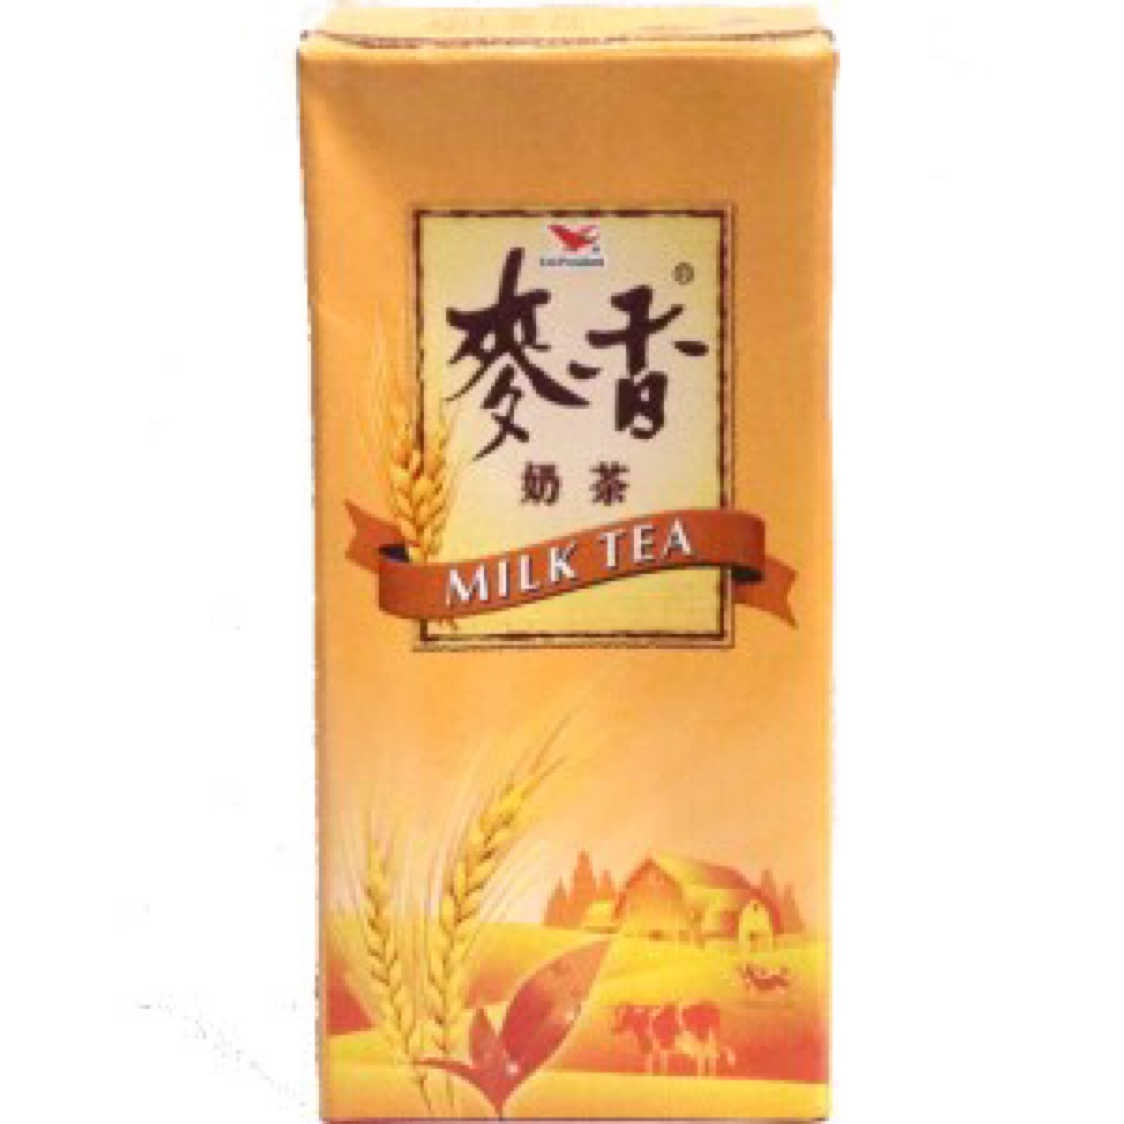milk tea: (292, 1, 832, 1122)
